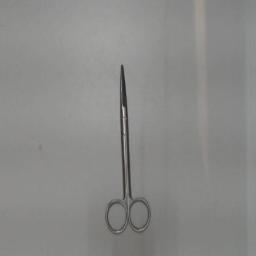Curved Mayo Scissors: (104, 60, 154, 238)
